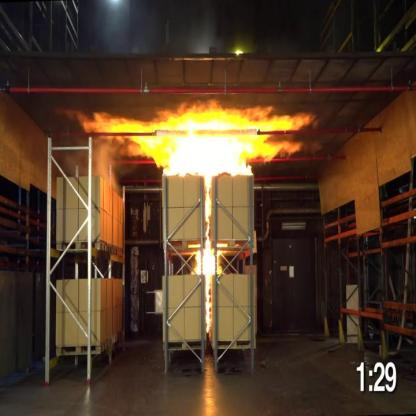fire: (72, 99, 320, 172), (191, 179, 227, 339)
